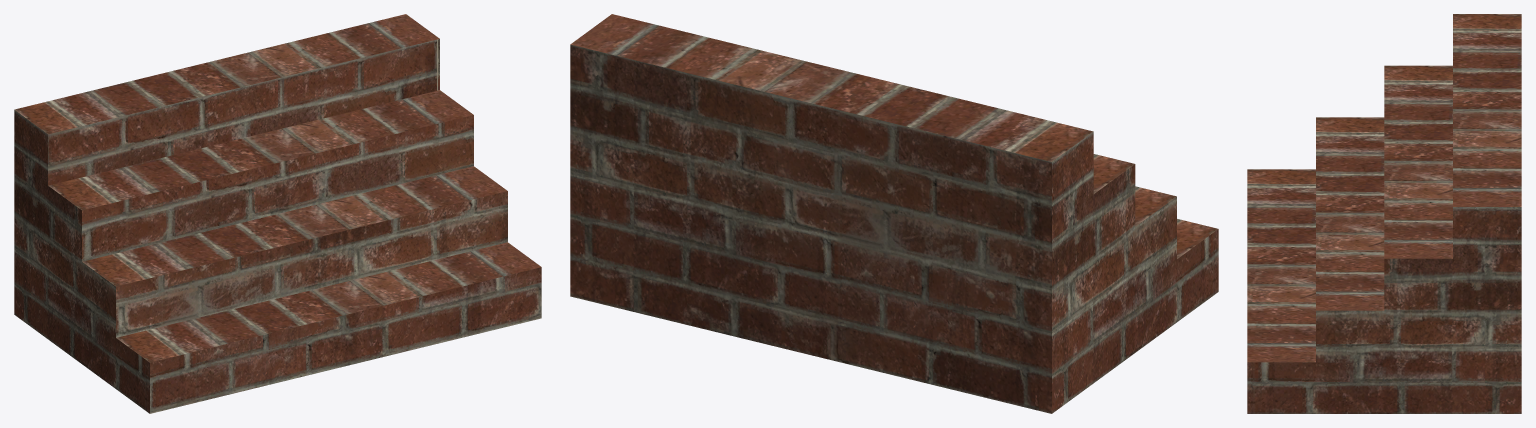
File: svspartabsteps1.dae
The picture shows the model from 3 angles, left to right: view 1: azimuth 30°, elevation 25°; view 2: azimuth 150°, elevation 25°; view 3: azimuth 270°, elevation 25°; orthographic projection. The views are drawn at different scales.
Visible parts, largest first — view 1: unnamed_object6_extract52-0; view 2: unnamed_object6_extract52-0; view 3: unnamed_object6_extract52-0.
Boxes of the visible parts, left/top/right/bottom form: unnamed_object6_extract52-0: left=14, top=14, right=541, bottom=413; unnamed_object6_extract52-0: left=570, top=14, right=1218, bottom=413; unnamed_object6_extract52-0: left=1247, top=14, right=1521, bottom=413.
Size of the model in its own units: 200 by 100 by 120.
